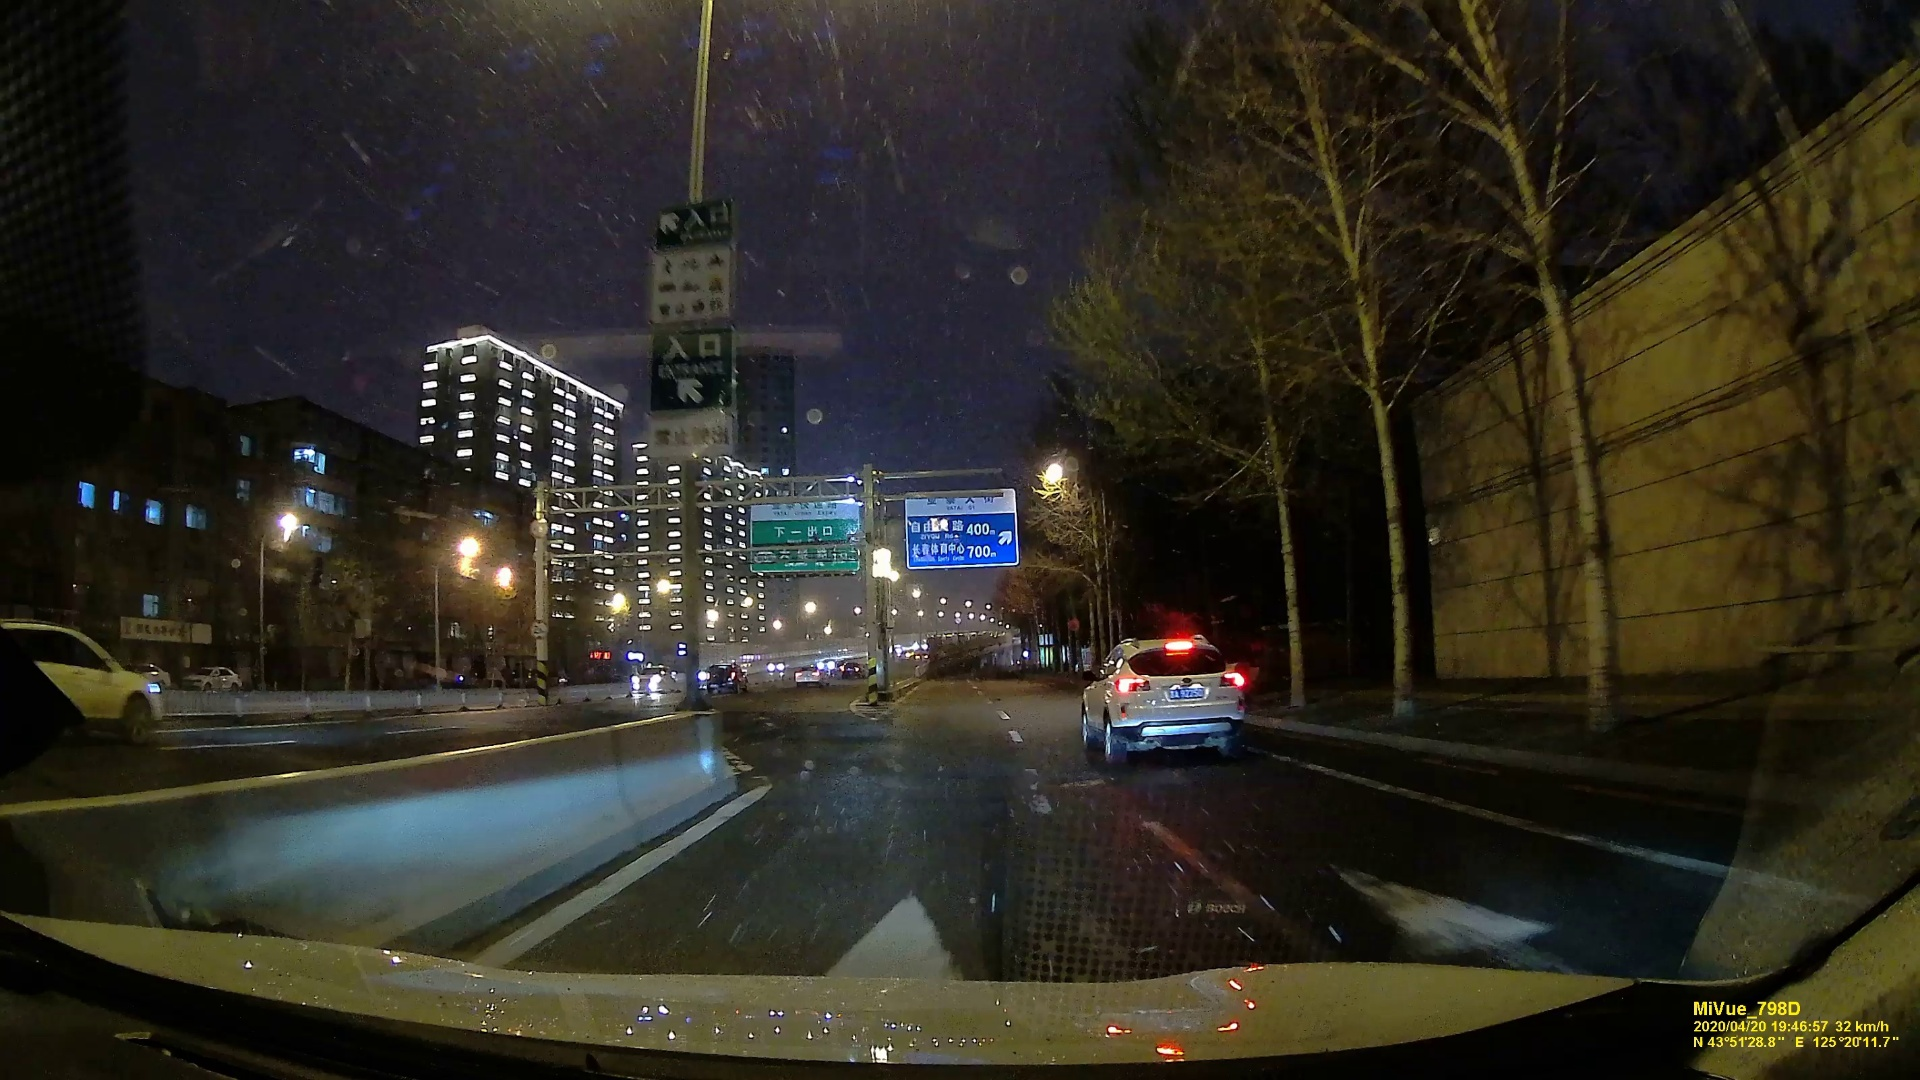traffic_sign: (650, 330, 735, 452), (657, 207, 731, 322), (905, 493, 1015, 567), (756, 498, 855, 571)
vehicle: (1077, 630, 1246, 766), (1, 617, 173, 741), (625, 665, 678, 691), (700, 665, 745, 694)
